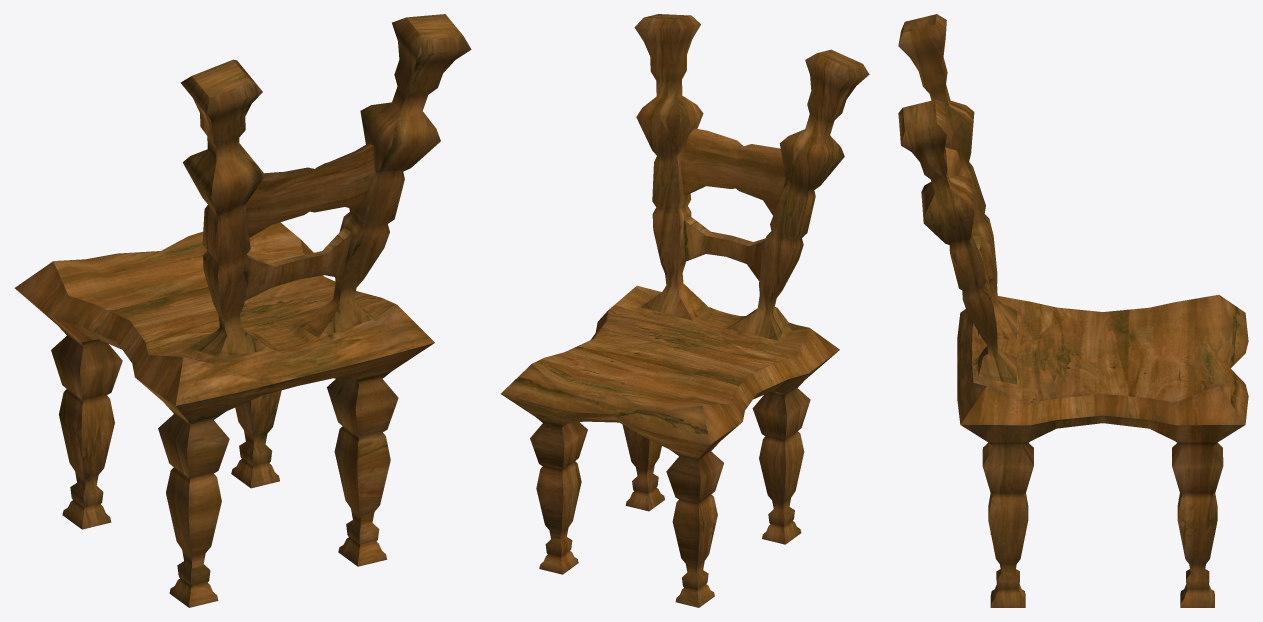
The model's file is cadira.FBX.
3 renders of one model, left to right at view 1: azimuth 30°, elevation 25°; view 2: azimuth 150°, elevation 25°; view 3: azimuth 270°, elevation 25°, orthographic. The views are drawn at different scales.
Parts seen in each view (by area): view 1: cadira_LP; view 2: cadira_LP; view 3: cadira_LP.
Part boxes in pixels (<box>): cadira_LP: <box>14,14,471,607</box>; cadira_LP: <box>501,14,869,607</box>; cadira_LP: <box>898,14,1248,607</box>.
Bounding box in the file's own units: 44.23 × 90.58 × 57.19.
